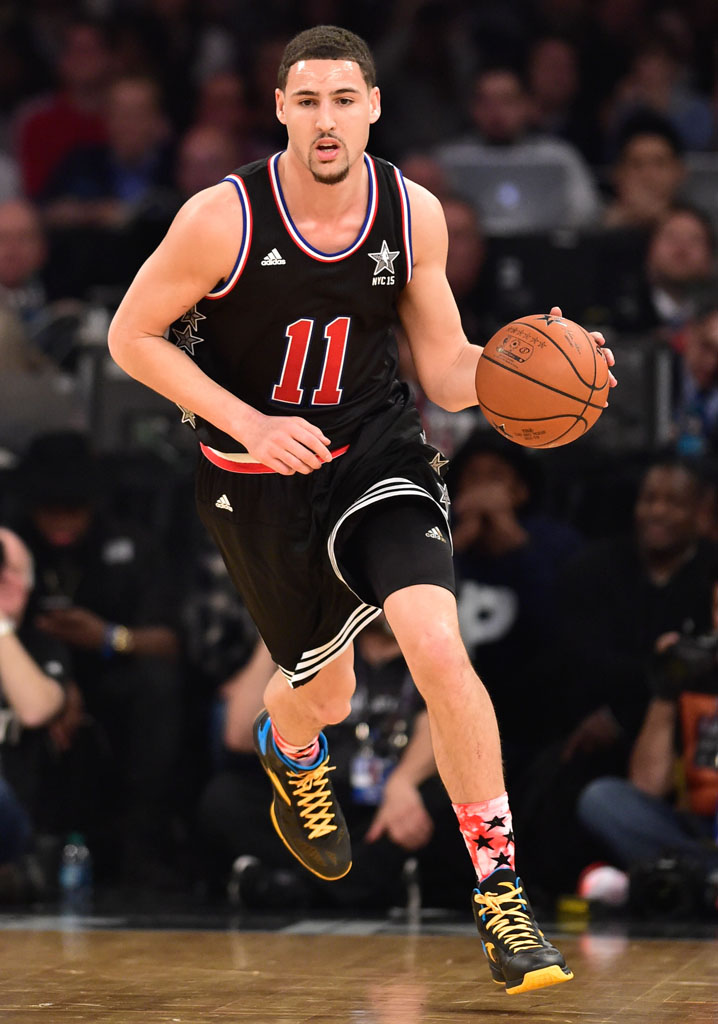basketball: (475, 310, 612, 452)
